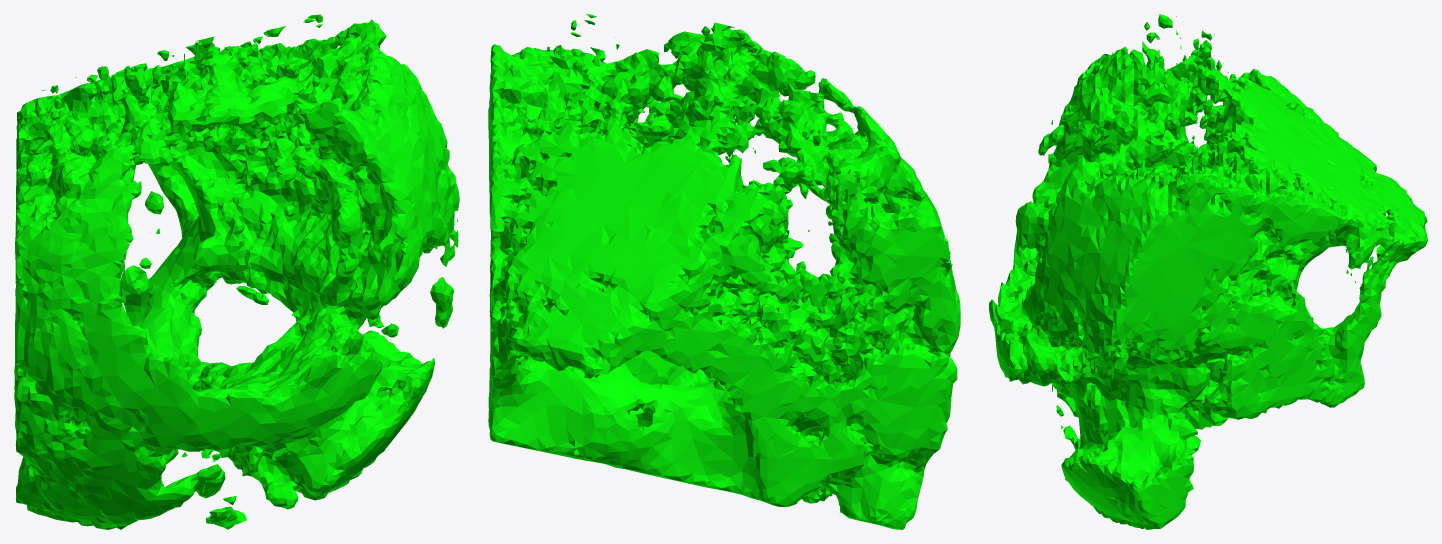
Rendered from B939XXXX-1_base_30.obj.
3 renders of one model, left to right at view 1: azimuth 30°, elevation 25°; view 2: azimuth 150°, elevation 25°; view 3: azimuth 270°, elevation 25°, orthographic. The views are drawn at different scales.
Visible parts, largest first — view 1: 30_base; view 2: 30_base; view 3: 30_base.
Boxes of the visible parts, x1,y1,x2,y2 form: 30_base: [14, 14, 459, 529]; 30_base: [488, 14, 960, 529]; 30_base: [989, 14, 1427, 529].
Bounding box in the file's own units: 219 × 220 × 206.
